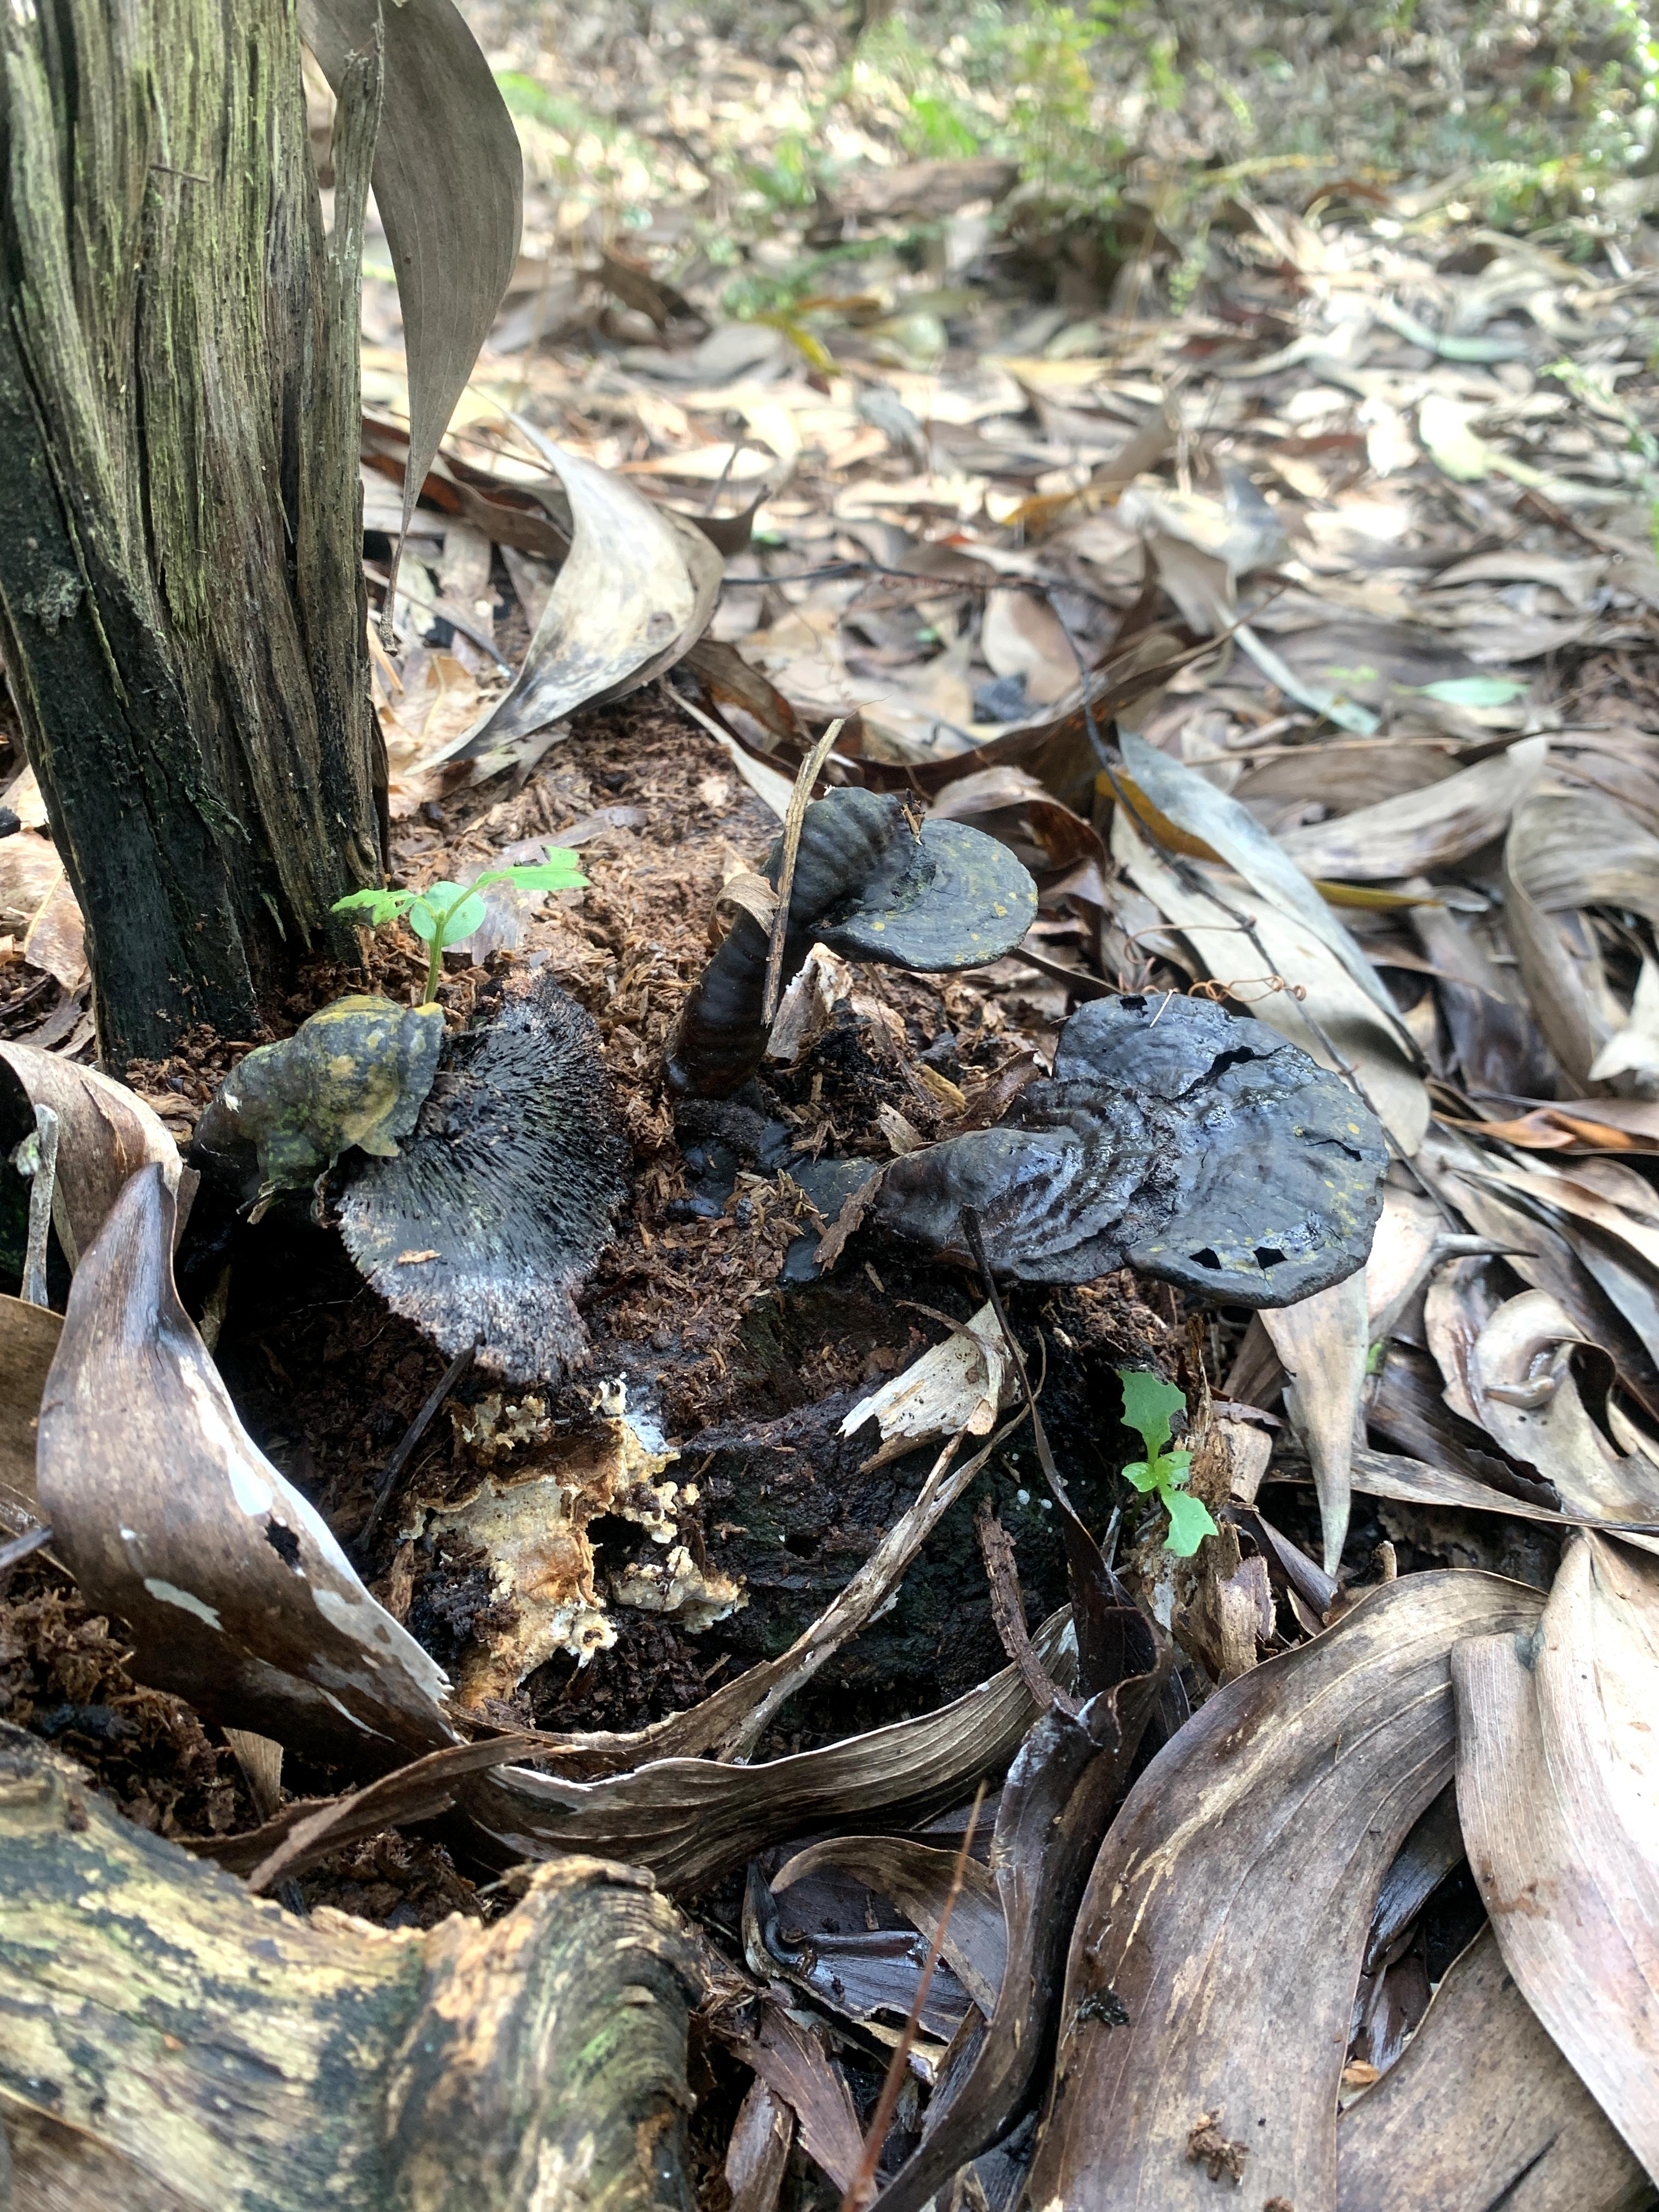Ganoderma - Fruit Body: (943, 918, 1427, 1343), (826, 752, 1053, 982)
